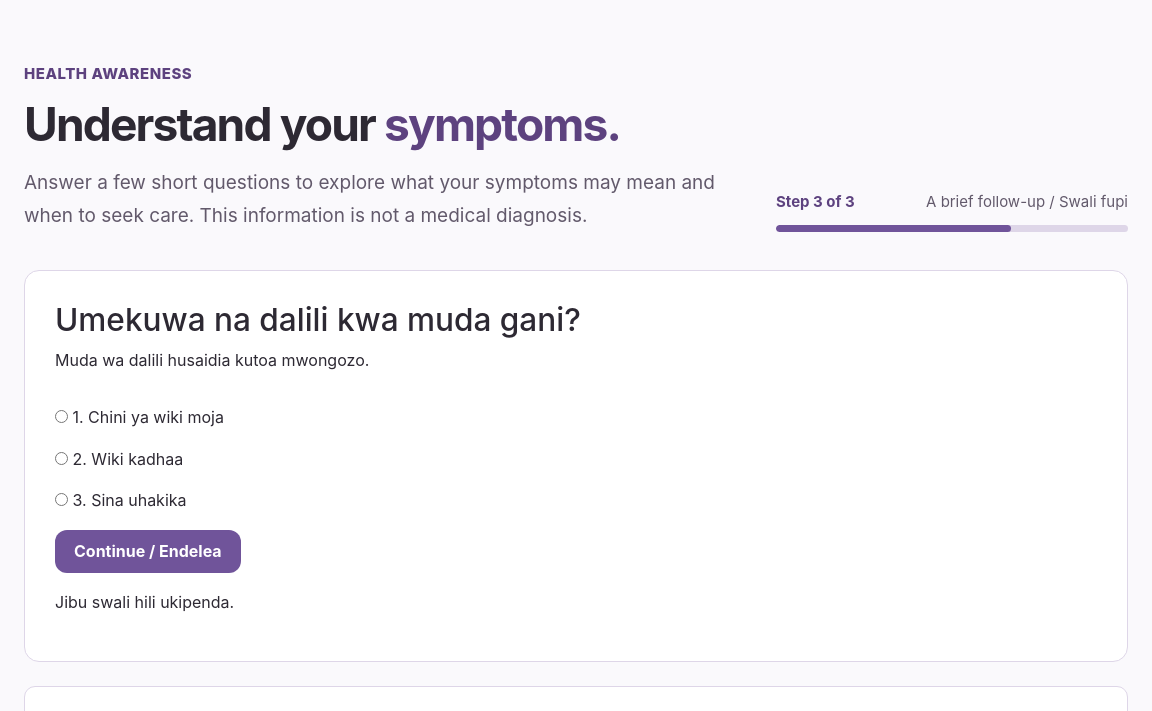
it: Targeted assessment follow-ups › keeps the question available when the backend rejects an answer
Click the radio button labelled "3. Sina uhakika".
click(62, 500)  # box [55,493,68,506]
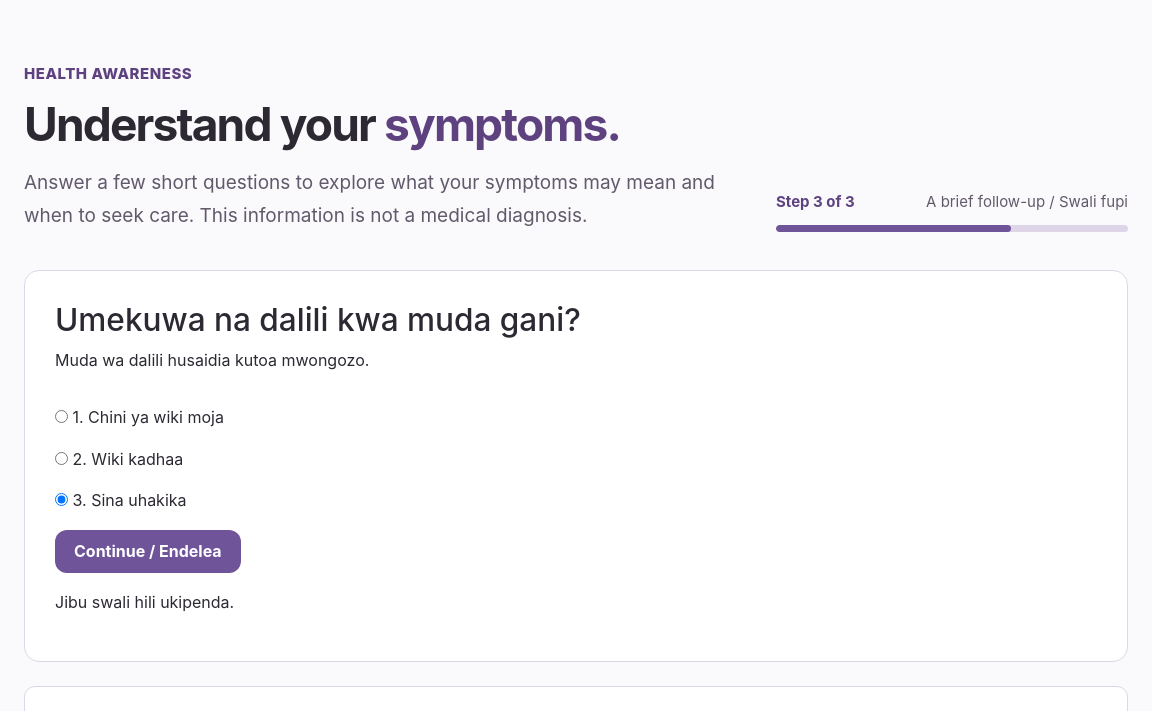
Click the button "Continue / Endelea".
click(148, 551)  # box [55,530,241,573]
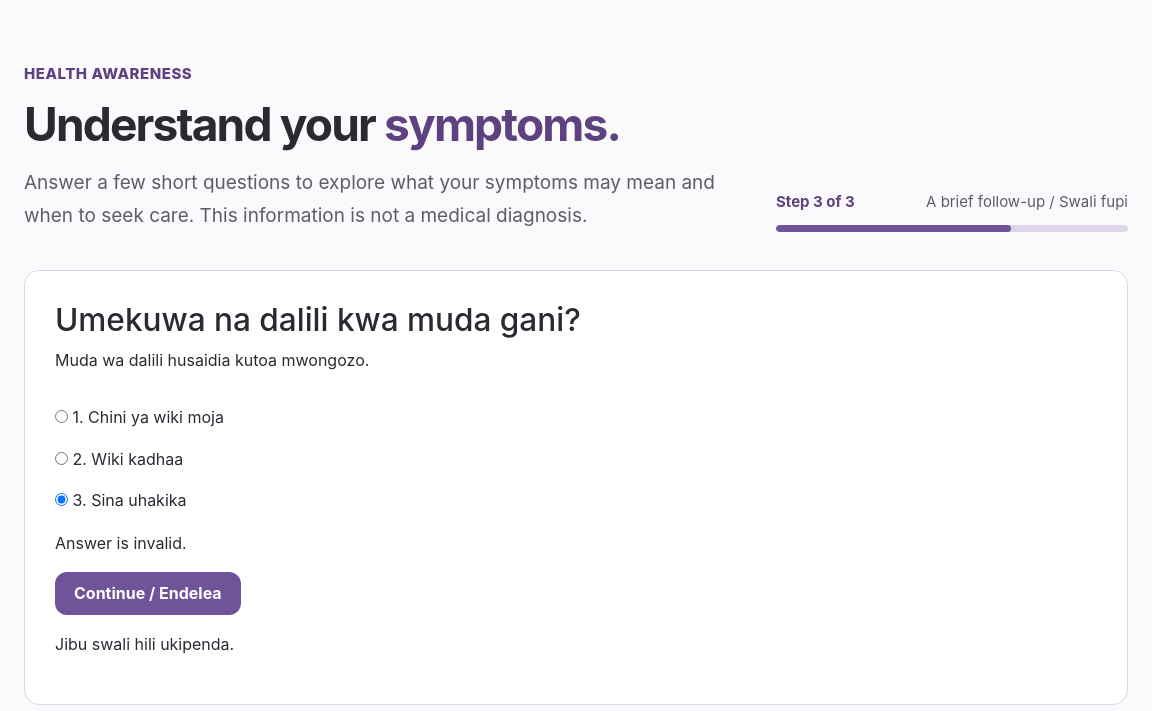
Expected: the heading "Umekuwa na dalili kwa muda gani?" is shown, [55,300,581,339]
Result: the message reads "Answer is invalid." at [55,533,187,553]
